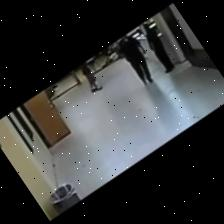person: (118, 36, 152, 85), (143, 24, 174, 73), (80, 63, 101, 92)
